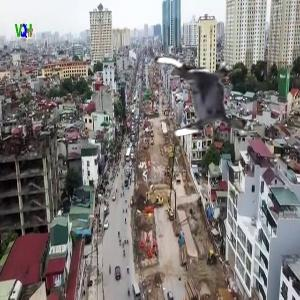drone: (151, 44, 256, 149)
